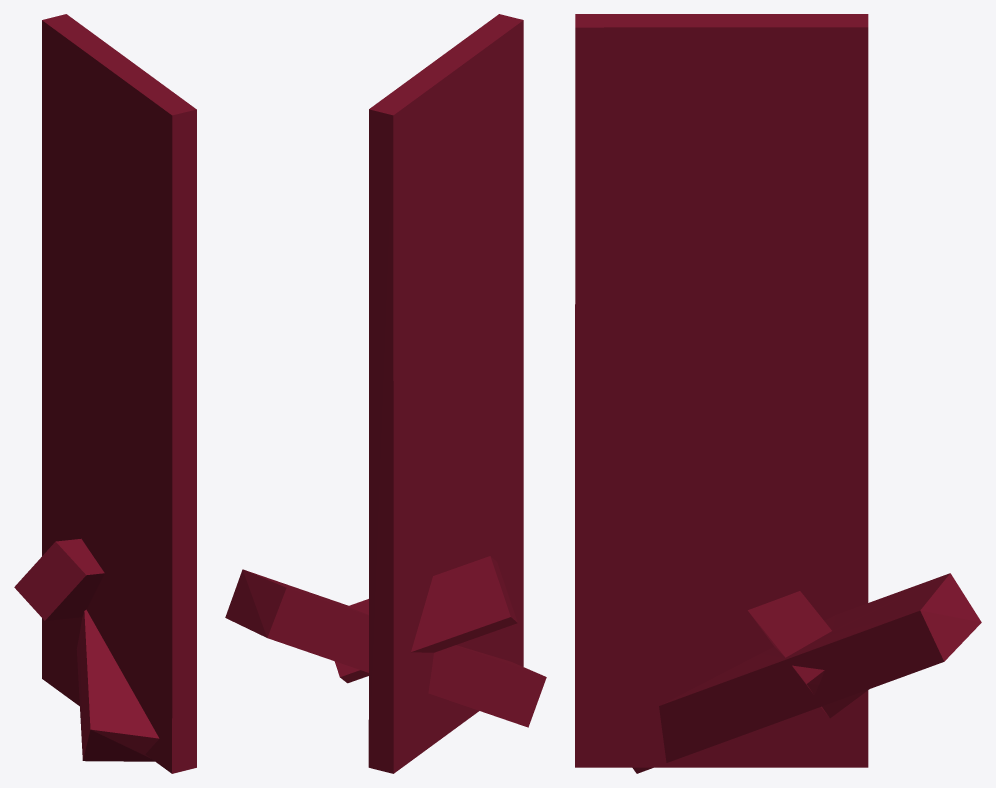
3 renders of one model, left to right at view 1: azimuth 30°, elevation 25°; view 2: azimuth 150°, elevation 25°; view 3: azimuth 270°, elevation 25°, orthographic. The views are drawn at different scales.
Visible parts, largest first — view 1: 462_Cube.1870; view 2: 462_Cube.1870; view 3: 462_Cube.1870.
Boxes of the visible parts, box(x1,y1,x2,y2) form: 462_Cube.1870: box(14, 14, 196, 773); 462_Cube.1870: box(225, 14, 546, 773); 462_Cube.1870: box(575, 14, 981, 773).
Bounding box in the file's own units: 3.95 × 12.2 × 5.97.
